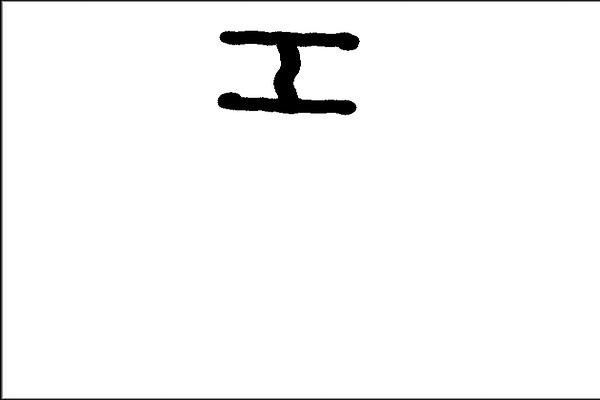i: (210, 24, 359, 127)
